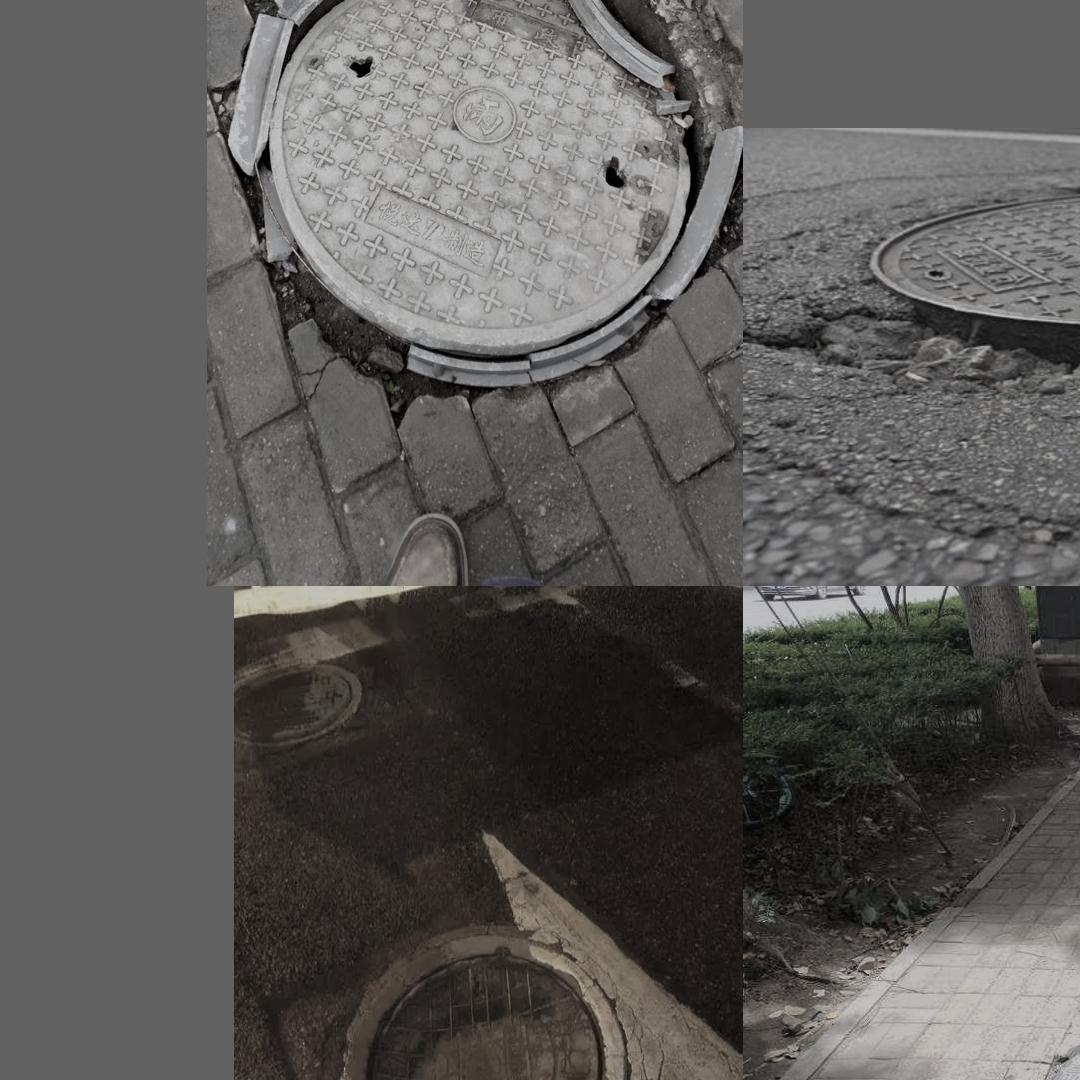circle: (215, 0, 737, 415), (281, 892, 706, 1080), (773, 170, 1080, 410), (1038, 1019, 1080, 1080)
